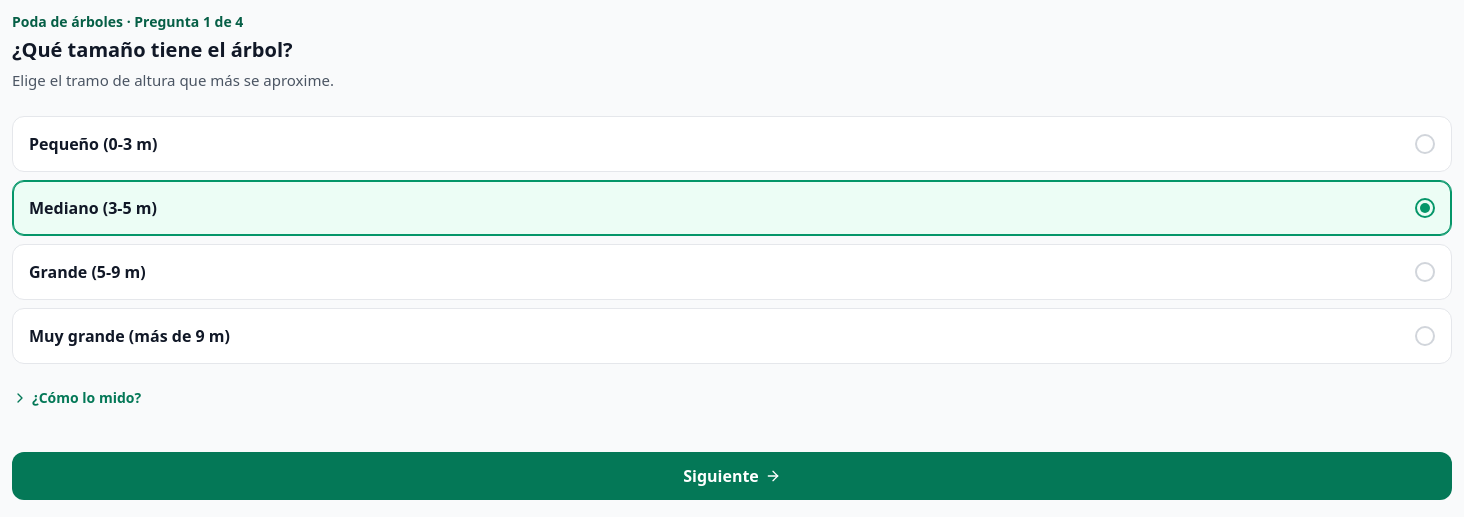
Test case: árboles · tipo de poda › nombres intactos y la ayuda del configurador del jardinero
The image size is (1464, 517).
Click the button "Siguiente". click: (732, 476)
box: [12,452,1452,500]
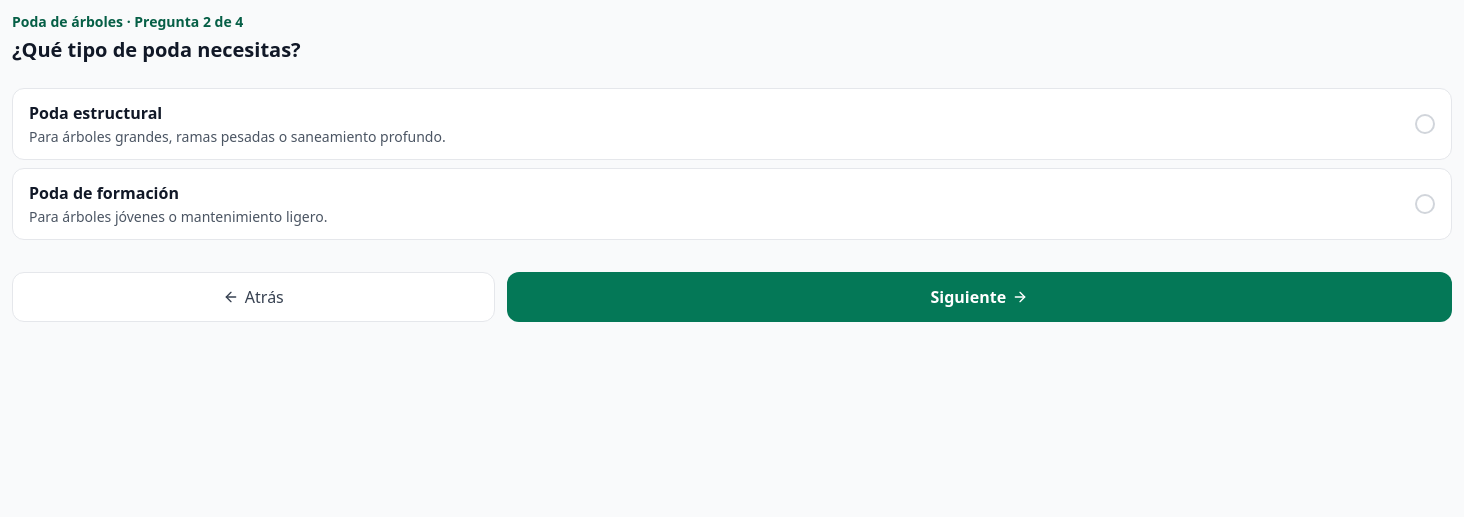
Result: the heading reads "¿Qué tipo de poda necesitas?" at [12,36,301,63]
Result: the radio button that starts with "Poda estructural" reads "Poda estructural Para árboles grandes, ramas pesadas o saneamiento profundo." at [12,88,1452,160]
Result: the radio button that starts with "Poda de formación" reads "Poda de formación Para árboles jóvenes o mantenimiento ligero." at [12,168,1452,240]
